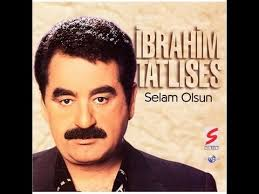middle_eastern_male: (48, 50, 127, 155)
